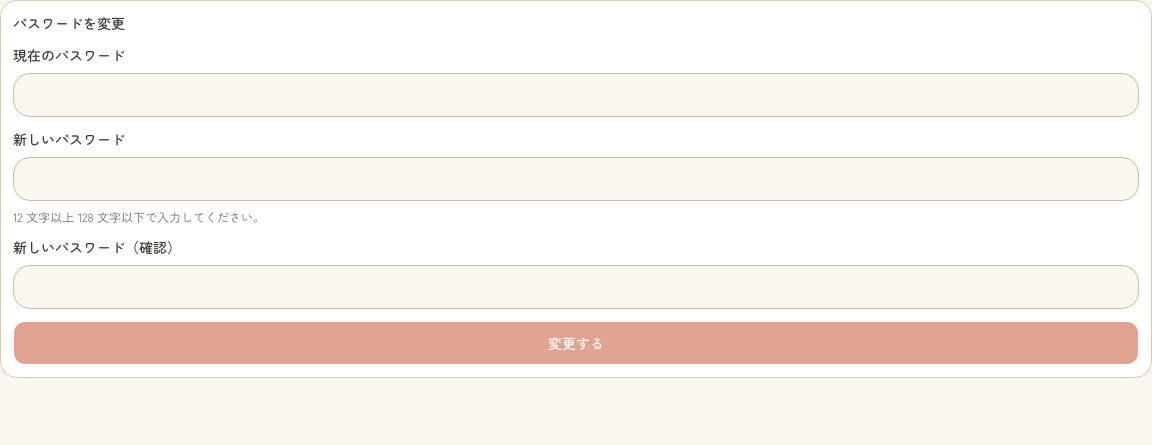
Test: ChangePasswordForm › CT-22: 現在のパスワード誤りでエラー文言を表示し、成功文言は出ない
Type "old-password-1234" into the password field labelled "現在のパスワード" at (576, 95), box [13, 73, 1139, 117]
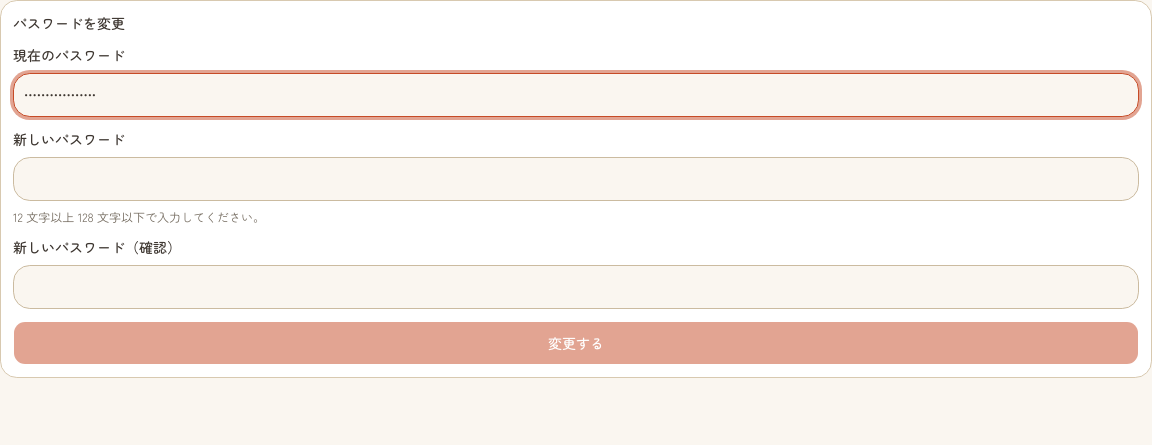
Type "new-password-1234" into the password field labelled "新しいパスワード" at (576, 179), box [13, 157, 1139, 201]
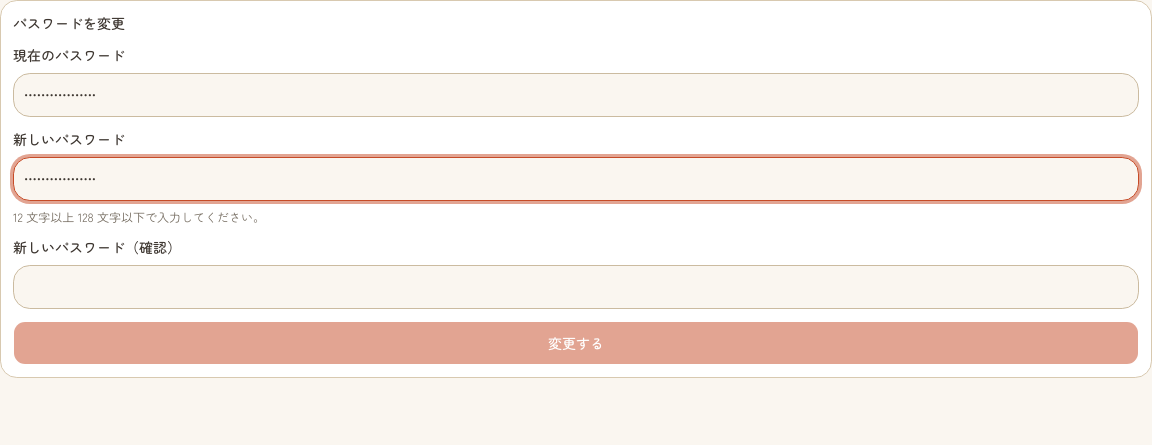
Type "new-password-1234" into the password field labelled "新しいパスワード（確認）" at (576, 287), box [13, 265, 1139, 309]
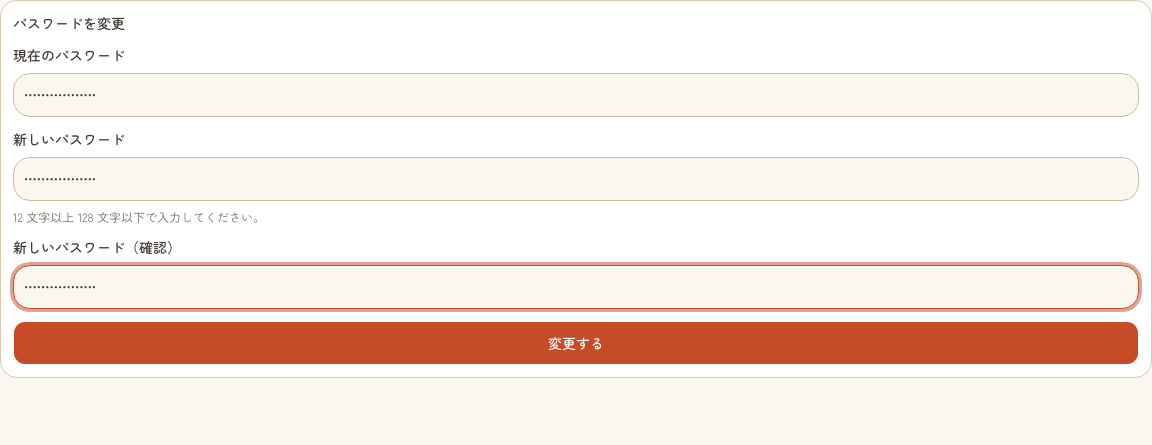
Click the button "変更する" at (576, 343), box [13, 321, 1139, 365]
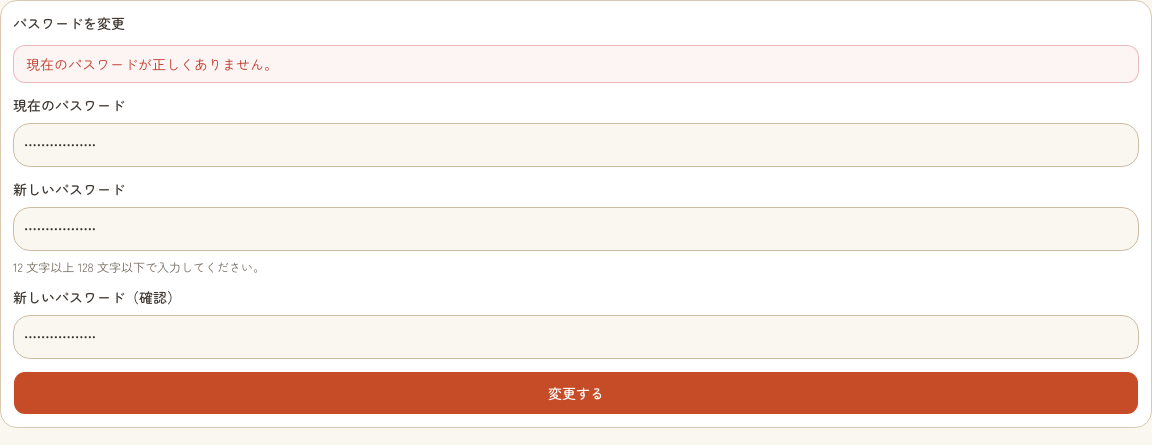
Result: the text "現在のパスワードが正しくありません。" is shown at [13, 45, 1139, 83]
